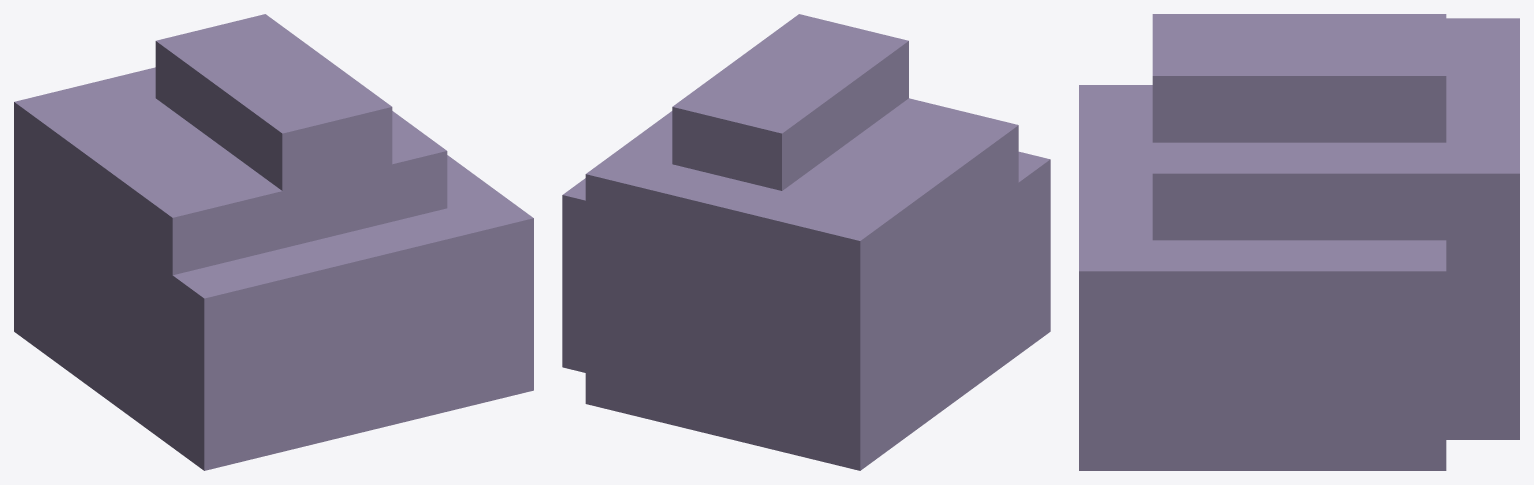
File: Rock.fbx
The picture shows the model from 3 angles, left to right: view 1: azimuth 30°, elevation 25°; view 2: azimuth 150°, elevation 25°; view 3: azimuth 270°, elevation 25°; orthographic projection. The views are drawn at different scales.
Parts seen in each view (by area): view 1: Rock; view 2: Rock; view 3: Rock.
Part boxes in pixels (x1,y1,x2,y2): Rock: (14,14,533,470); Rock: (562,14,1050,470); Rock: (1079,14,1519,470).
Bounding box in the file's own units: 6 × 5 × 6.
